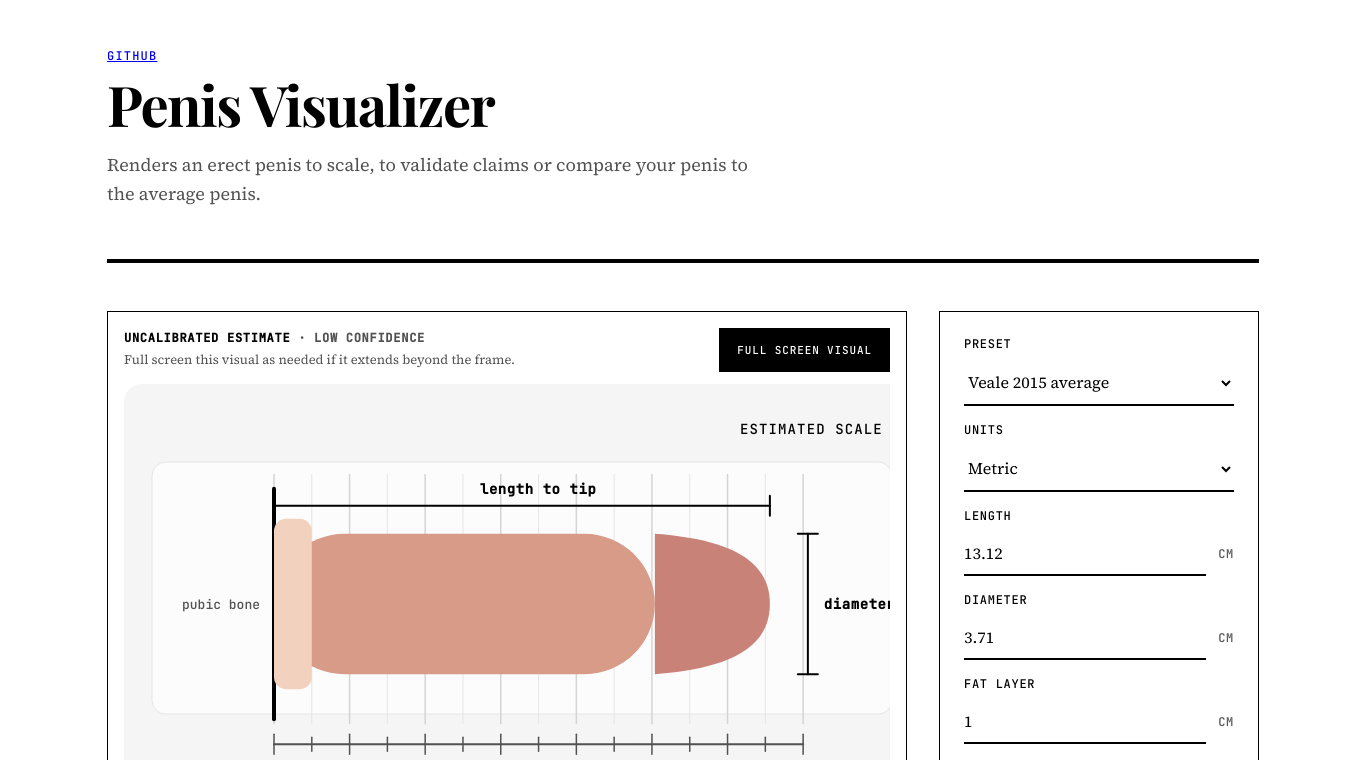
Test: App › updates both diagram rulers when the unit mode changes
Select "Imperial" in the dropdown labelled "Units" at (1099, 468), box 964,446 -> 1234,492
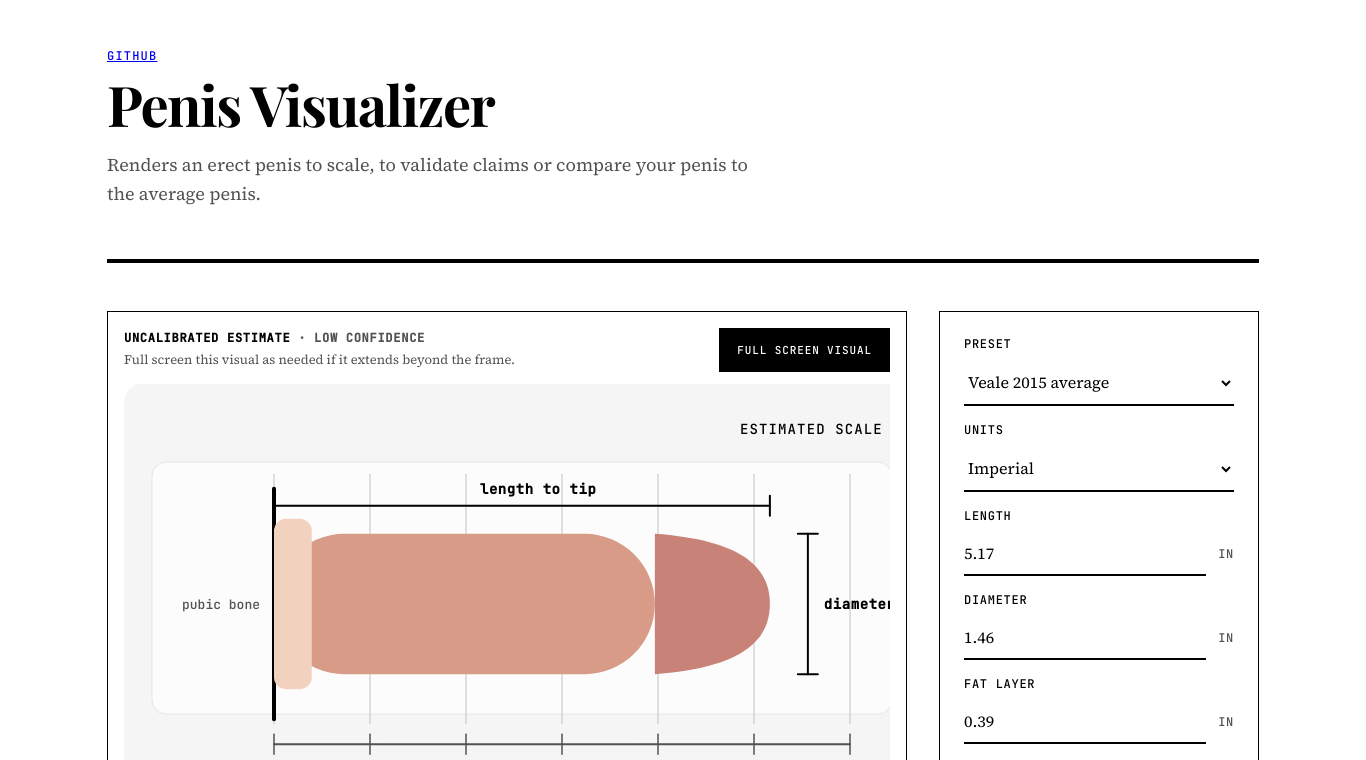
Now no pictures "0 cm" are shown
